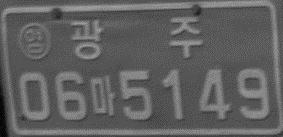0: (17, 72, 50, 121)
1: (157, 68, 192, 120)
4: (198, 68, 231, 120)
5: (117, 69, 153, 120)
6: (53, 71, 86, 120)
9: (235, 68, 270, 120)
광주_D: (68, 16, 203, 60)
마: (89, 75, 116, 116)
영: (17, 22, 52, 61)
